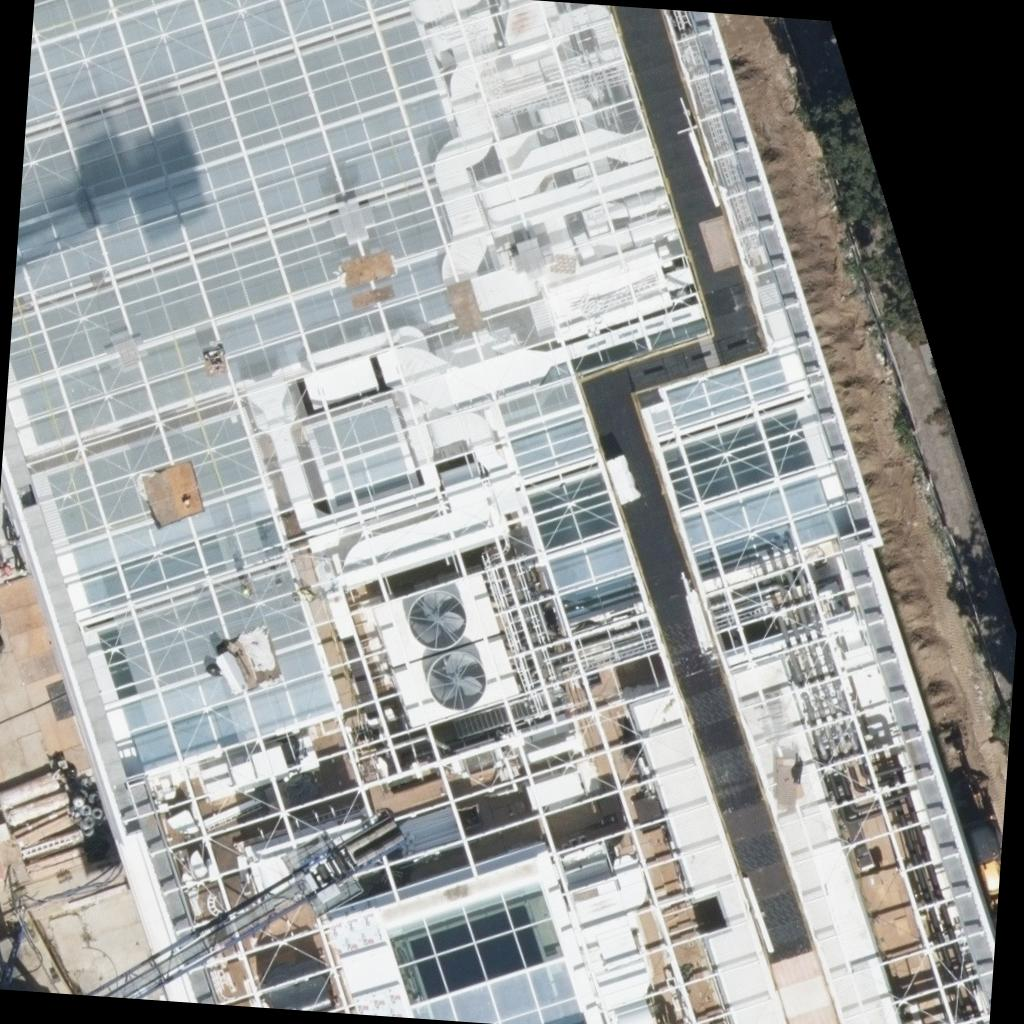zuraw_wiezowy: (82, 788, 414, 1018)
